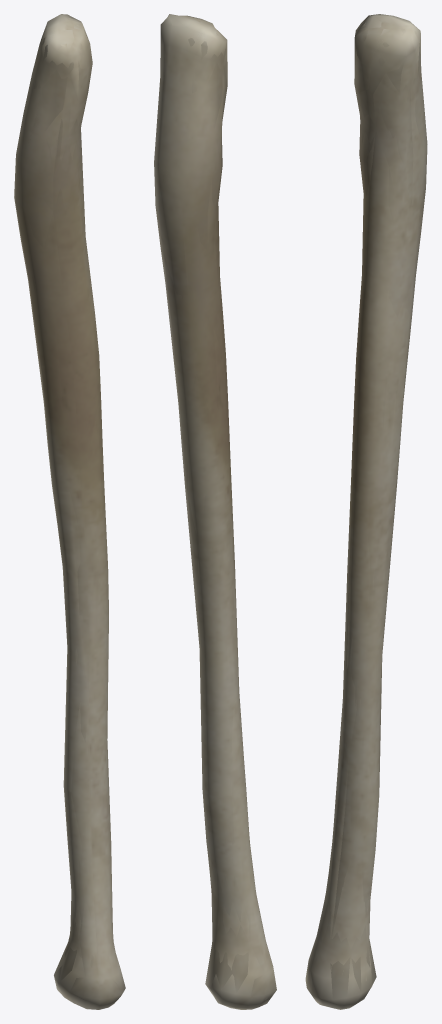
The model's file is L Ulna.fbx.
3 views of the same model, side by side, from view 1: azimuth 90°, elevation 25°; view 2: azimuth 150°, elevation 25°; view 3: azimuth 330°, elevation 25° (orthographic). The views are drawn at different scales.
Parts seen in each view (by area): view 1: L Ulna, L Ulna low, L Ulna high; view 2: L Ulna, L Ulna low, L Ulna high; view 3: L Ulna low, L Ulna, L Ulna high.
Part boxes in pixels (x1=…): L Ulna: x1=14, y1=14, x2=125, y2=1009; L Ulna low: x1=14, y1=14, x2=122, y2=1009; L Ulna high: x1=20, y1=17, x2=115, y2=1004; L Ulna: x1=154, y1=14, x2=276, y2=1009; L Ulna low: x1=154, y1=15, x2=274, y2=1006; L Ulna high: x1=162, y1=17, x2=267, y2=1000; L Ulna low: x1=306, y1=15, x2=427, y2=1009; L Ulna: x1=305, y1=14, x2=427, y2=1009; L Ulna high: x1=314, y1=18, x2=421, y2=981.
Size of the model in its own units: 1.12 by 11.03 by 1.16.
1 material, 1 textured.
